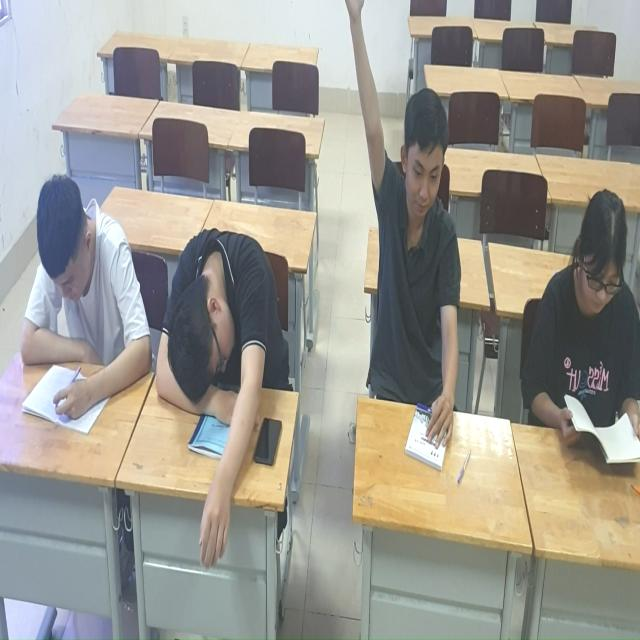raise_hand: (350, 1, 465, 447)
read: (514, 187, 640, 485), (19, 165, 158, 429)
sleep: (155, 211, 282, 577)
